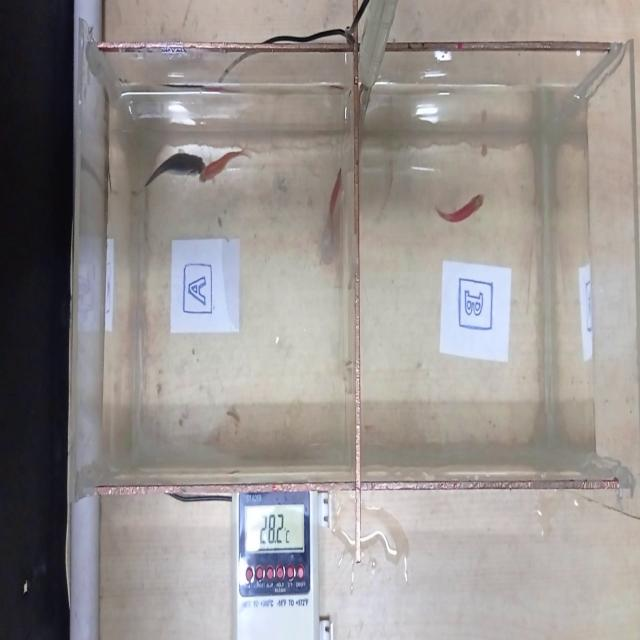Fish A1: (134, 144, 206, 201)
Fish A2: (198, 143, 256, 185)
Fish A3: (316, 160, 349, 239)
Fish B: (427, 192, 487, 232)
